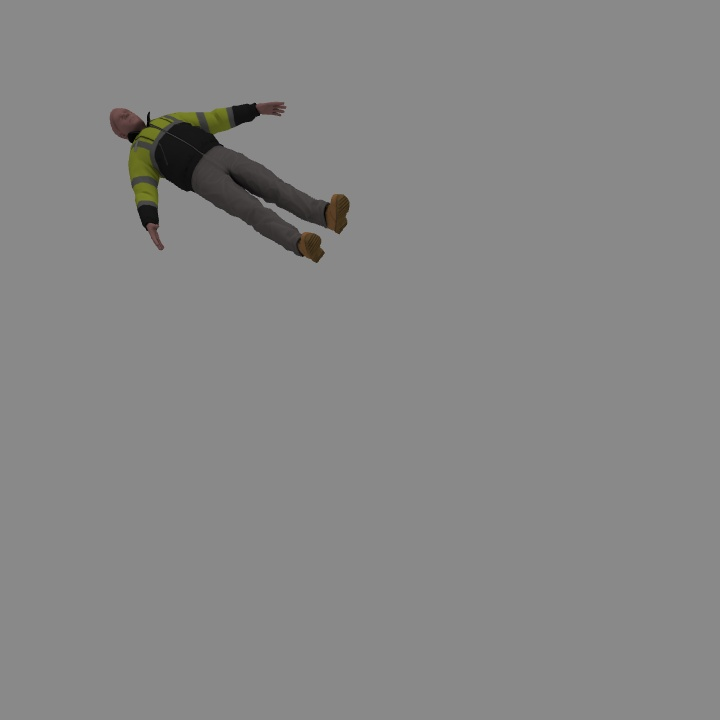victim: (104, 101, 347, 261)
